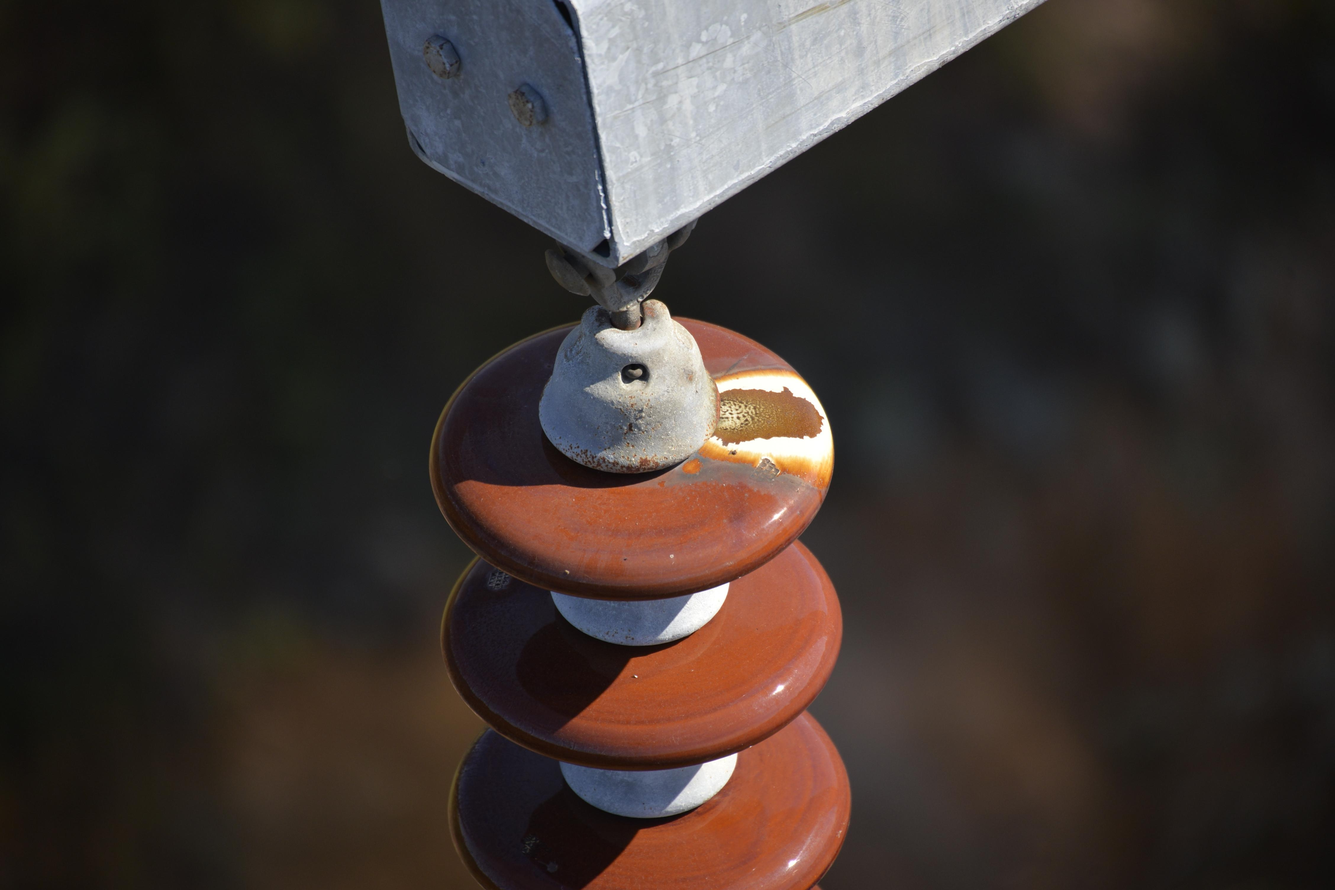Flashover: (704, 370, 834, 494)
insulator: (426, 315, 849, 890)
